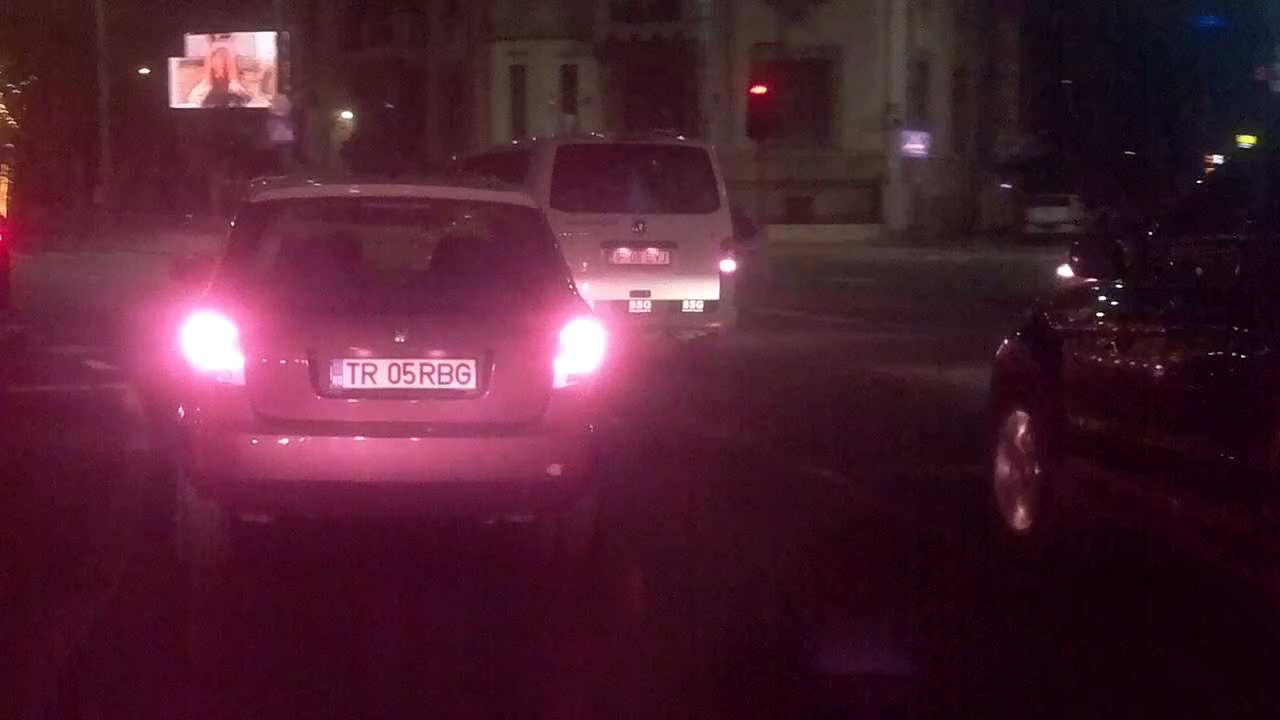license-plate: (325, 353, 482, 393)
